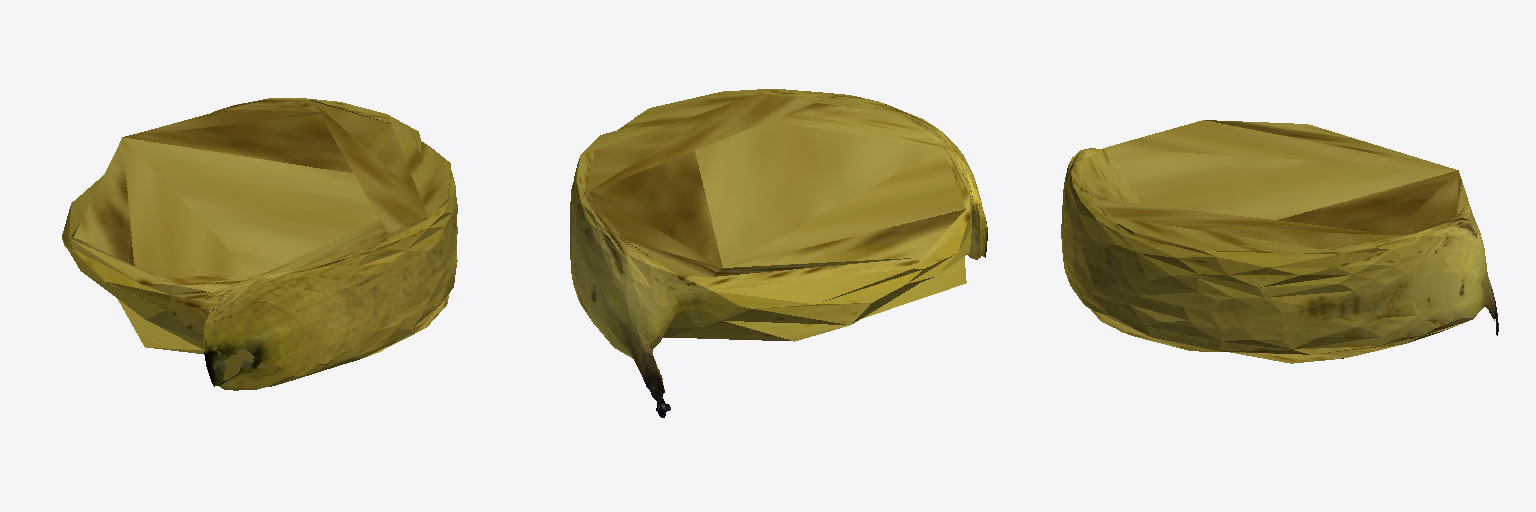
3 views of the same model, side by side, from view 1: azimuth 30°, elevation 25°; view 2: azimuth 150°, elevation 25°; view 3: azimuth 270°, elevation 25° (orthographic).
Visible parts, largest first — view 1: Battered_Potato_with_Battered_Potato_banana; view 2: Battered_Potato_with_Battered_Potato_banana; view 3: Battered_Potato_with_Battered_Potato_banana.
Boxes of the visible parts, x1,y1,x2,y2 form: Battered_Potato_with_Battered_Potato_banana: [62, 98, 457, 390]; Battered_Potato_with_Battered_Potato_banana: [570, 89, 987, 417]; Battered_Potato_with_Battered_Potato_banana: [1061, 120, 1498, 363].
Size of the model in its own units: 0.9489 by 0.4346 by 1.05.
Materials: 1 (1 with a texture image).